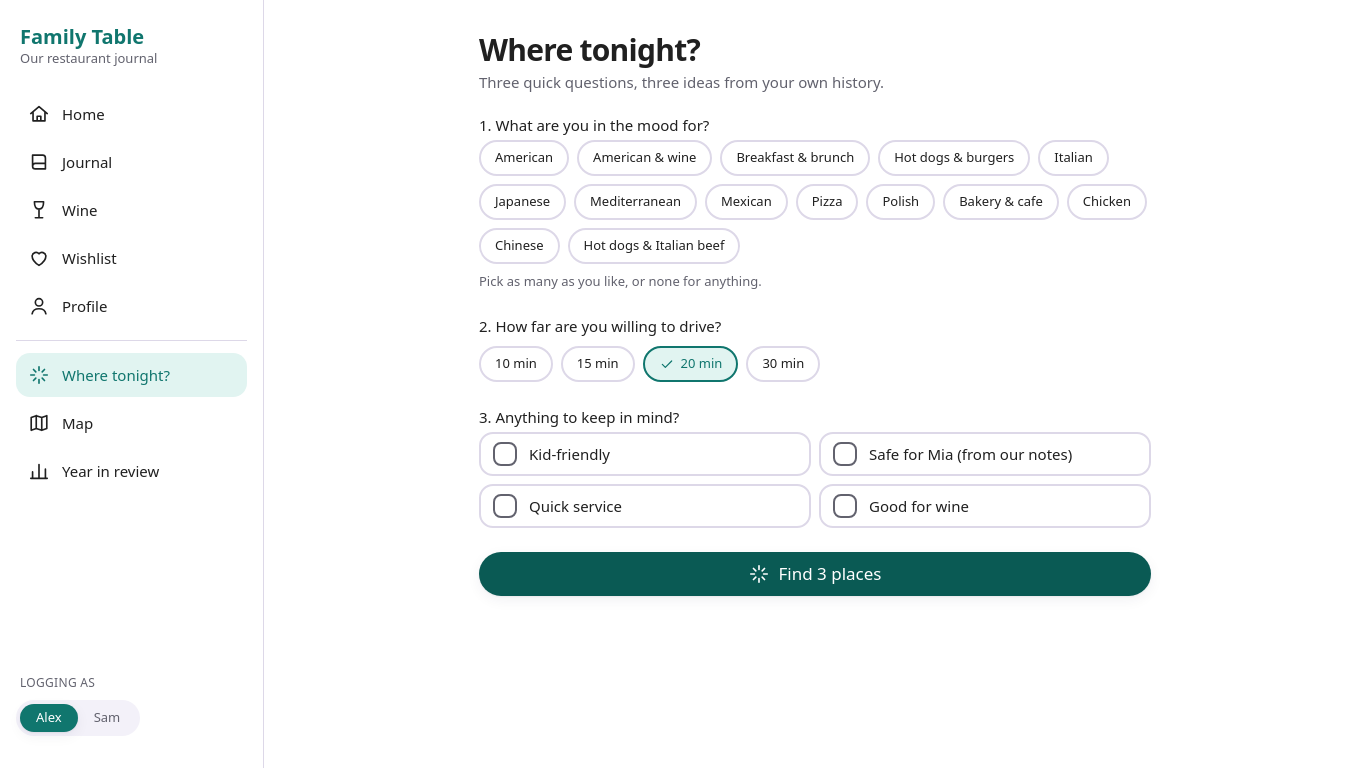
Test: Where tonight? › explains when nothing matches
What coordinates should you click on to do the following:
click the radio button labelled "10 min"
I would click on:
 (516, 364)
Its box is 479,346 -> 553,382.
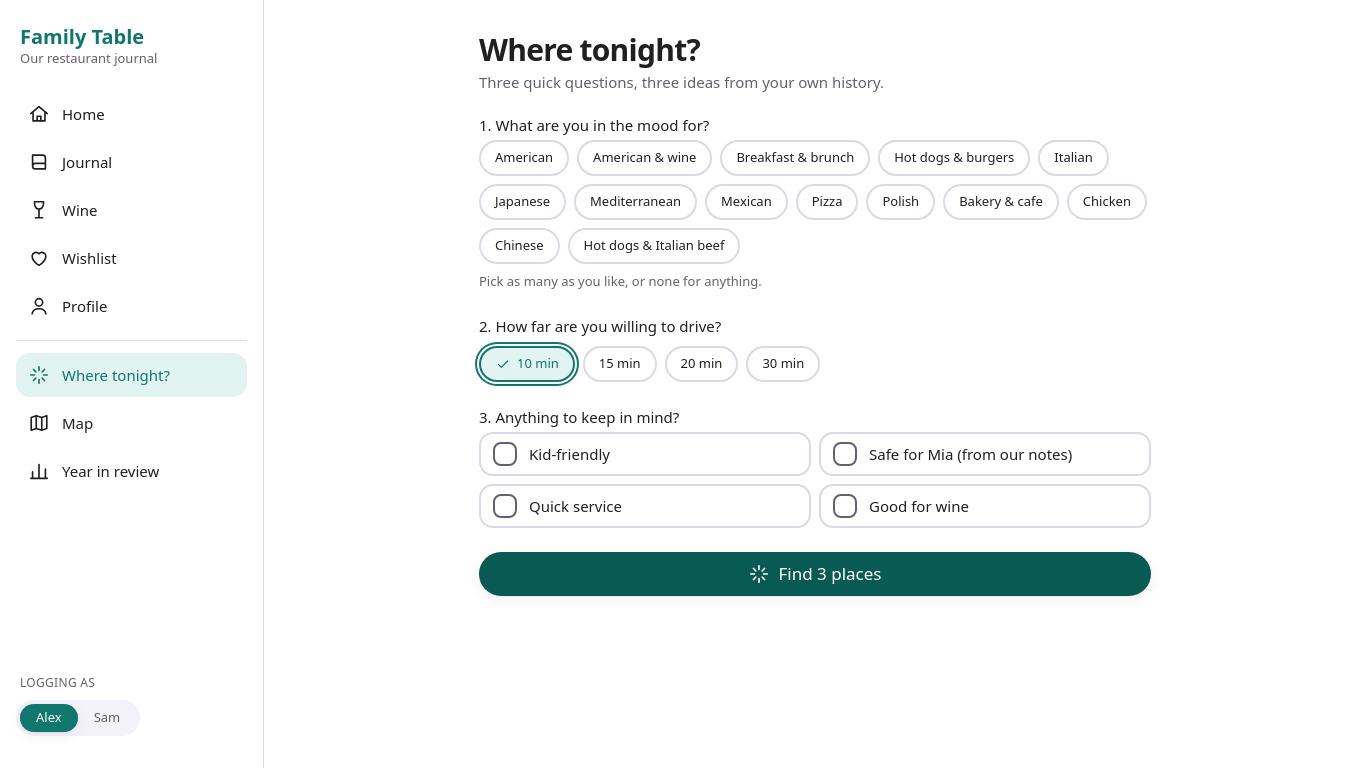
What coordinates should you click on to do the following:
click the button "Japanese"
I would click on:
 (523, 202)
Its box is 479,184 -> 566,220.
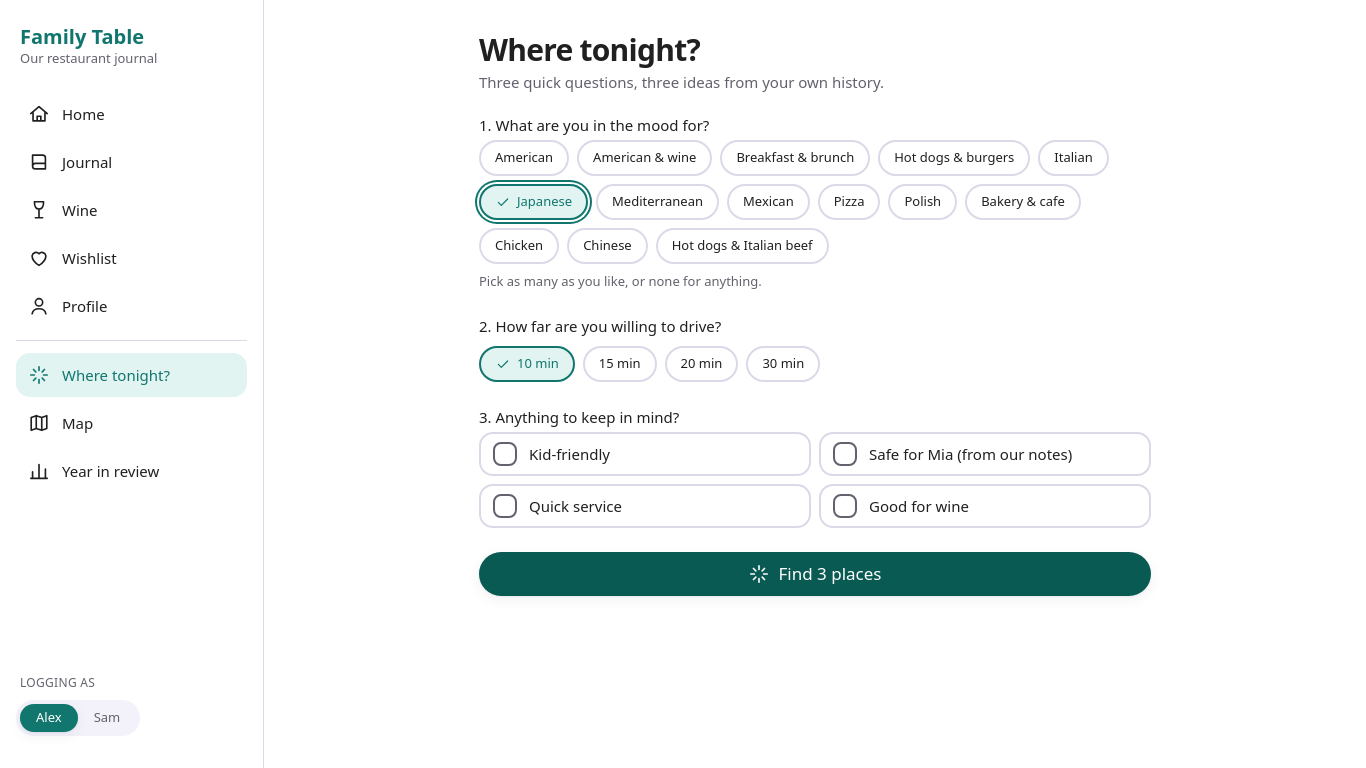
What coordinates should you click on to do the following:
click the button "Find 3 places"
I would click on:
 (815, 574)
Its box is 479,552 -> 1151,596.
(page scrolled)
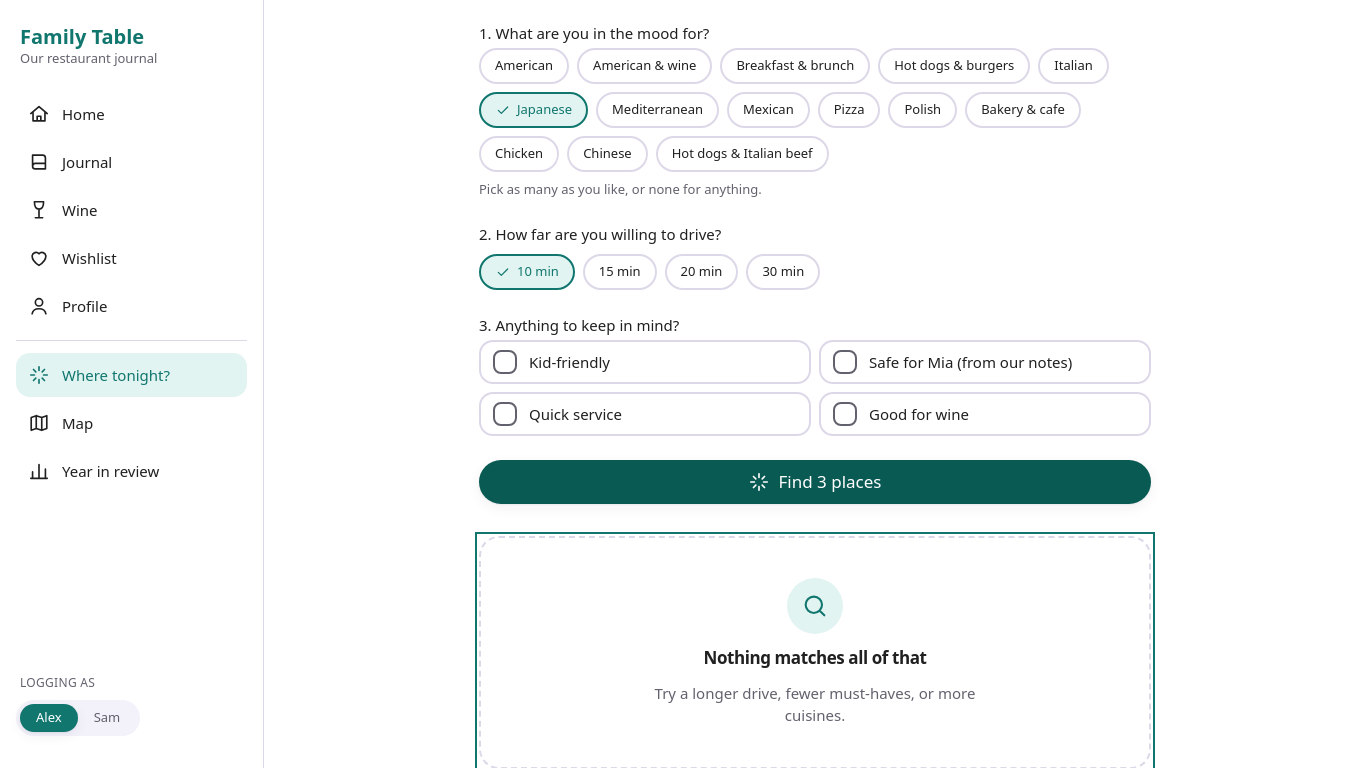
Check: the heading "Nothing matches all of that" is shown, box 704,646 -> 926,669
